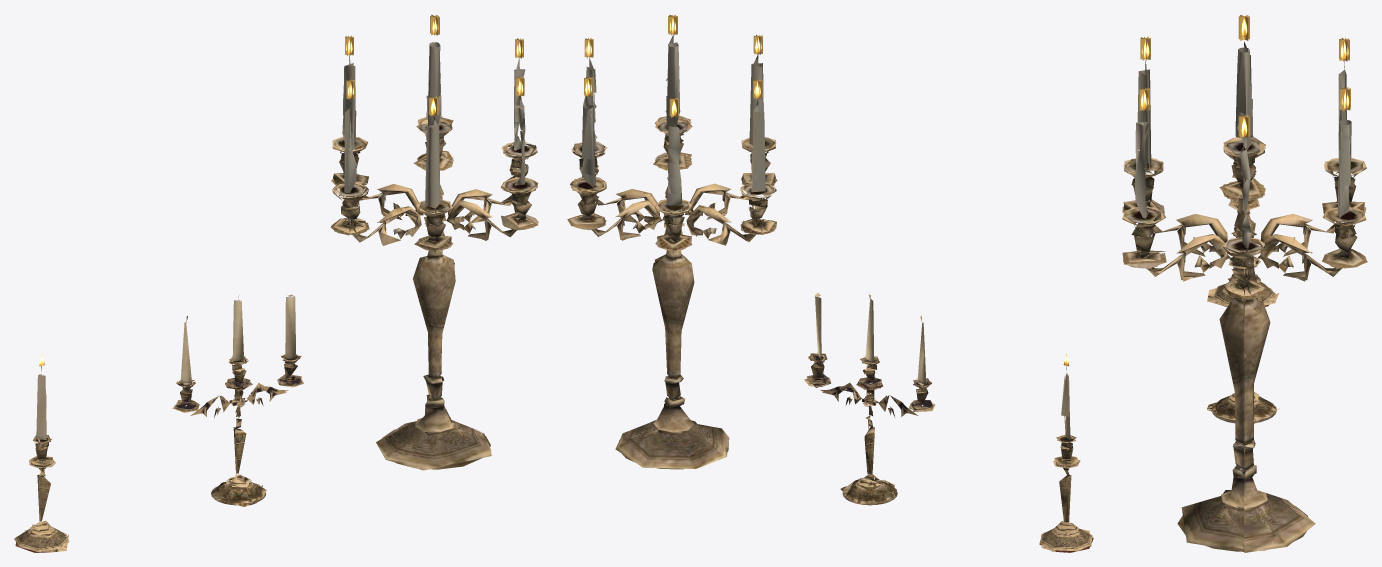
File: candleholders_brass.glb
3 views of the same model, side by side, from view 1: azimuth 30°, elevation 25°; view 2: azimuth 150°, elevation 25°; view 3: azimuth 270°, elevation 25° (orthographic). The views are drawn at different scales.
Visible parts, largest first — view 1: brass_candleholder_03, brass_candleholder_02, brass_candleholder_01; view 2: brass_candleholder_03, brass_candleholder_02, brass_candleholder_01; view 3: brass_candleholder_03, brass_candleholder_02, brass_candleholder_01.
Boxes of the visible parts, x1,y1,x2,y2 form: brass_candleholder_03: (330, 14, 538, 470); brass_candleholder_02: (172, 294, 303, 506); brass_candleholder_01: (14, 354, 69, 552); brass_candleholder_03: (567, 14, 777, 469); brass_candleholder_02: (804, 293, 935, 505); brass_candleholder_01: (1039, 354, 1093, 552); brass_candleholder_03: (1122, 15, 1367, 552); brass_candleholder_02: (1207, 231, 1279, 423); brass_candleholder_01: (1207, 174, 1278, 306).
Size of the model in its own units: 1.06 by 0.8353 by 0.3666.
5 materials, 4 textured.
